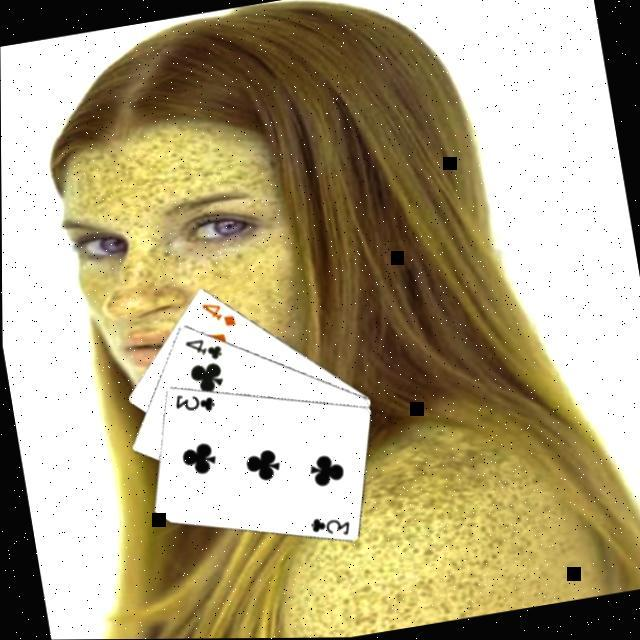3C: (306, 508, 354, 543), (171, 385, 219, 418)
4C: (182, 331, 227, 366)
4D: (199, 295, 240, 332)
